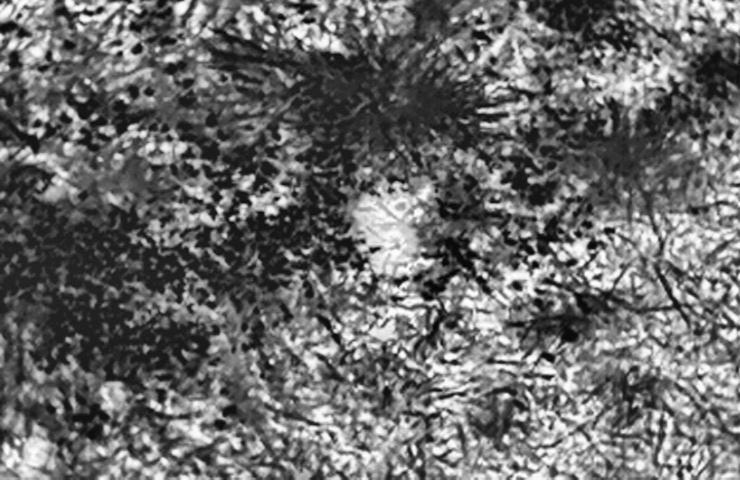landmines: (340, 174, 453, 284)
